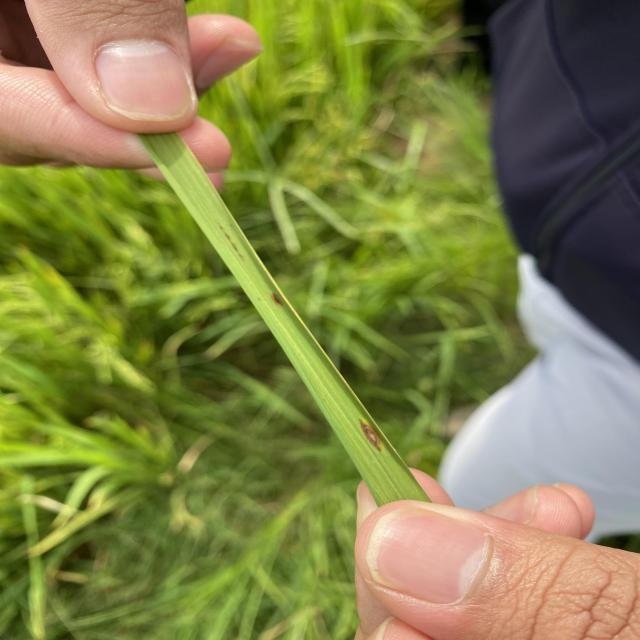Dom nau: (357, 418, 383, 452), (270, 291, 283, 307)
